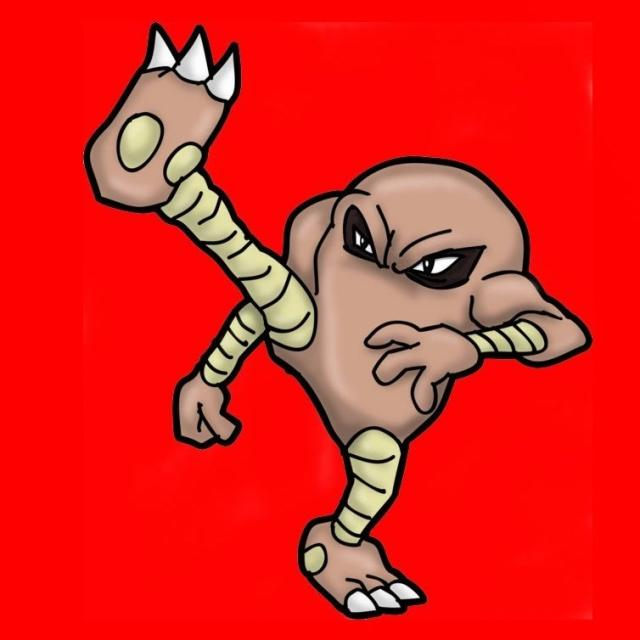Hitmonlee: (167, 154, 530, 611)
